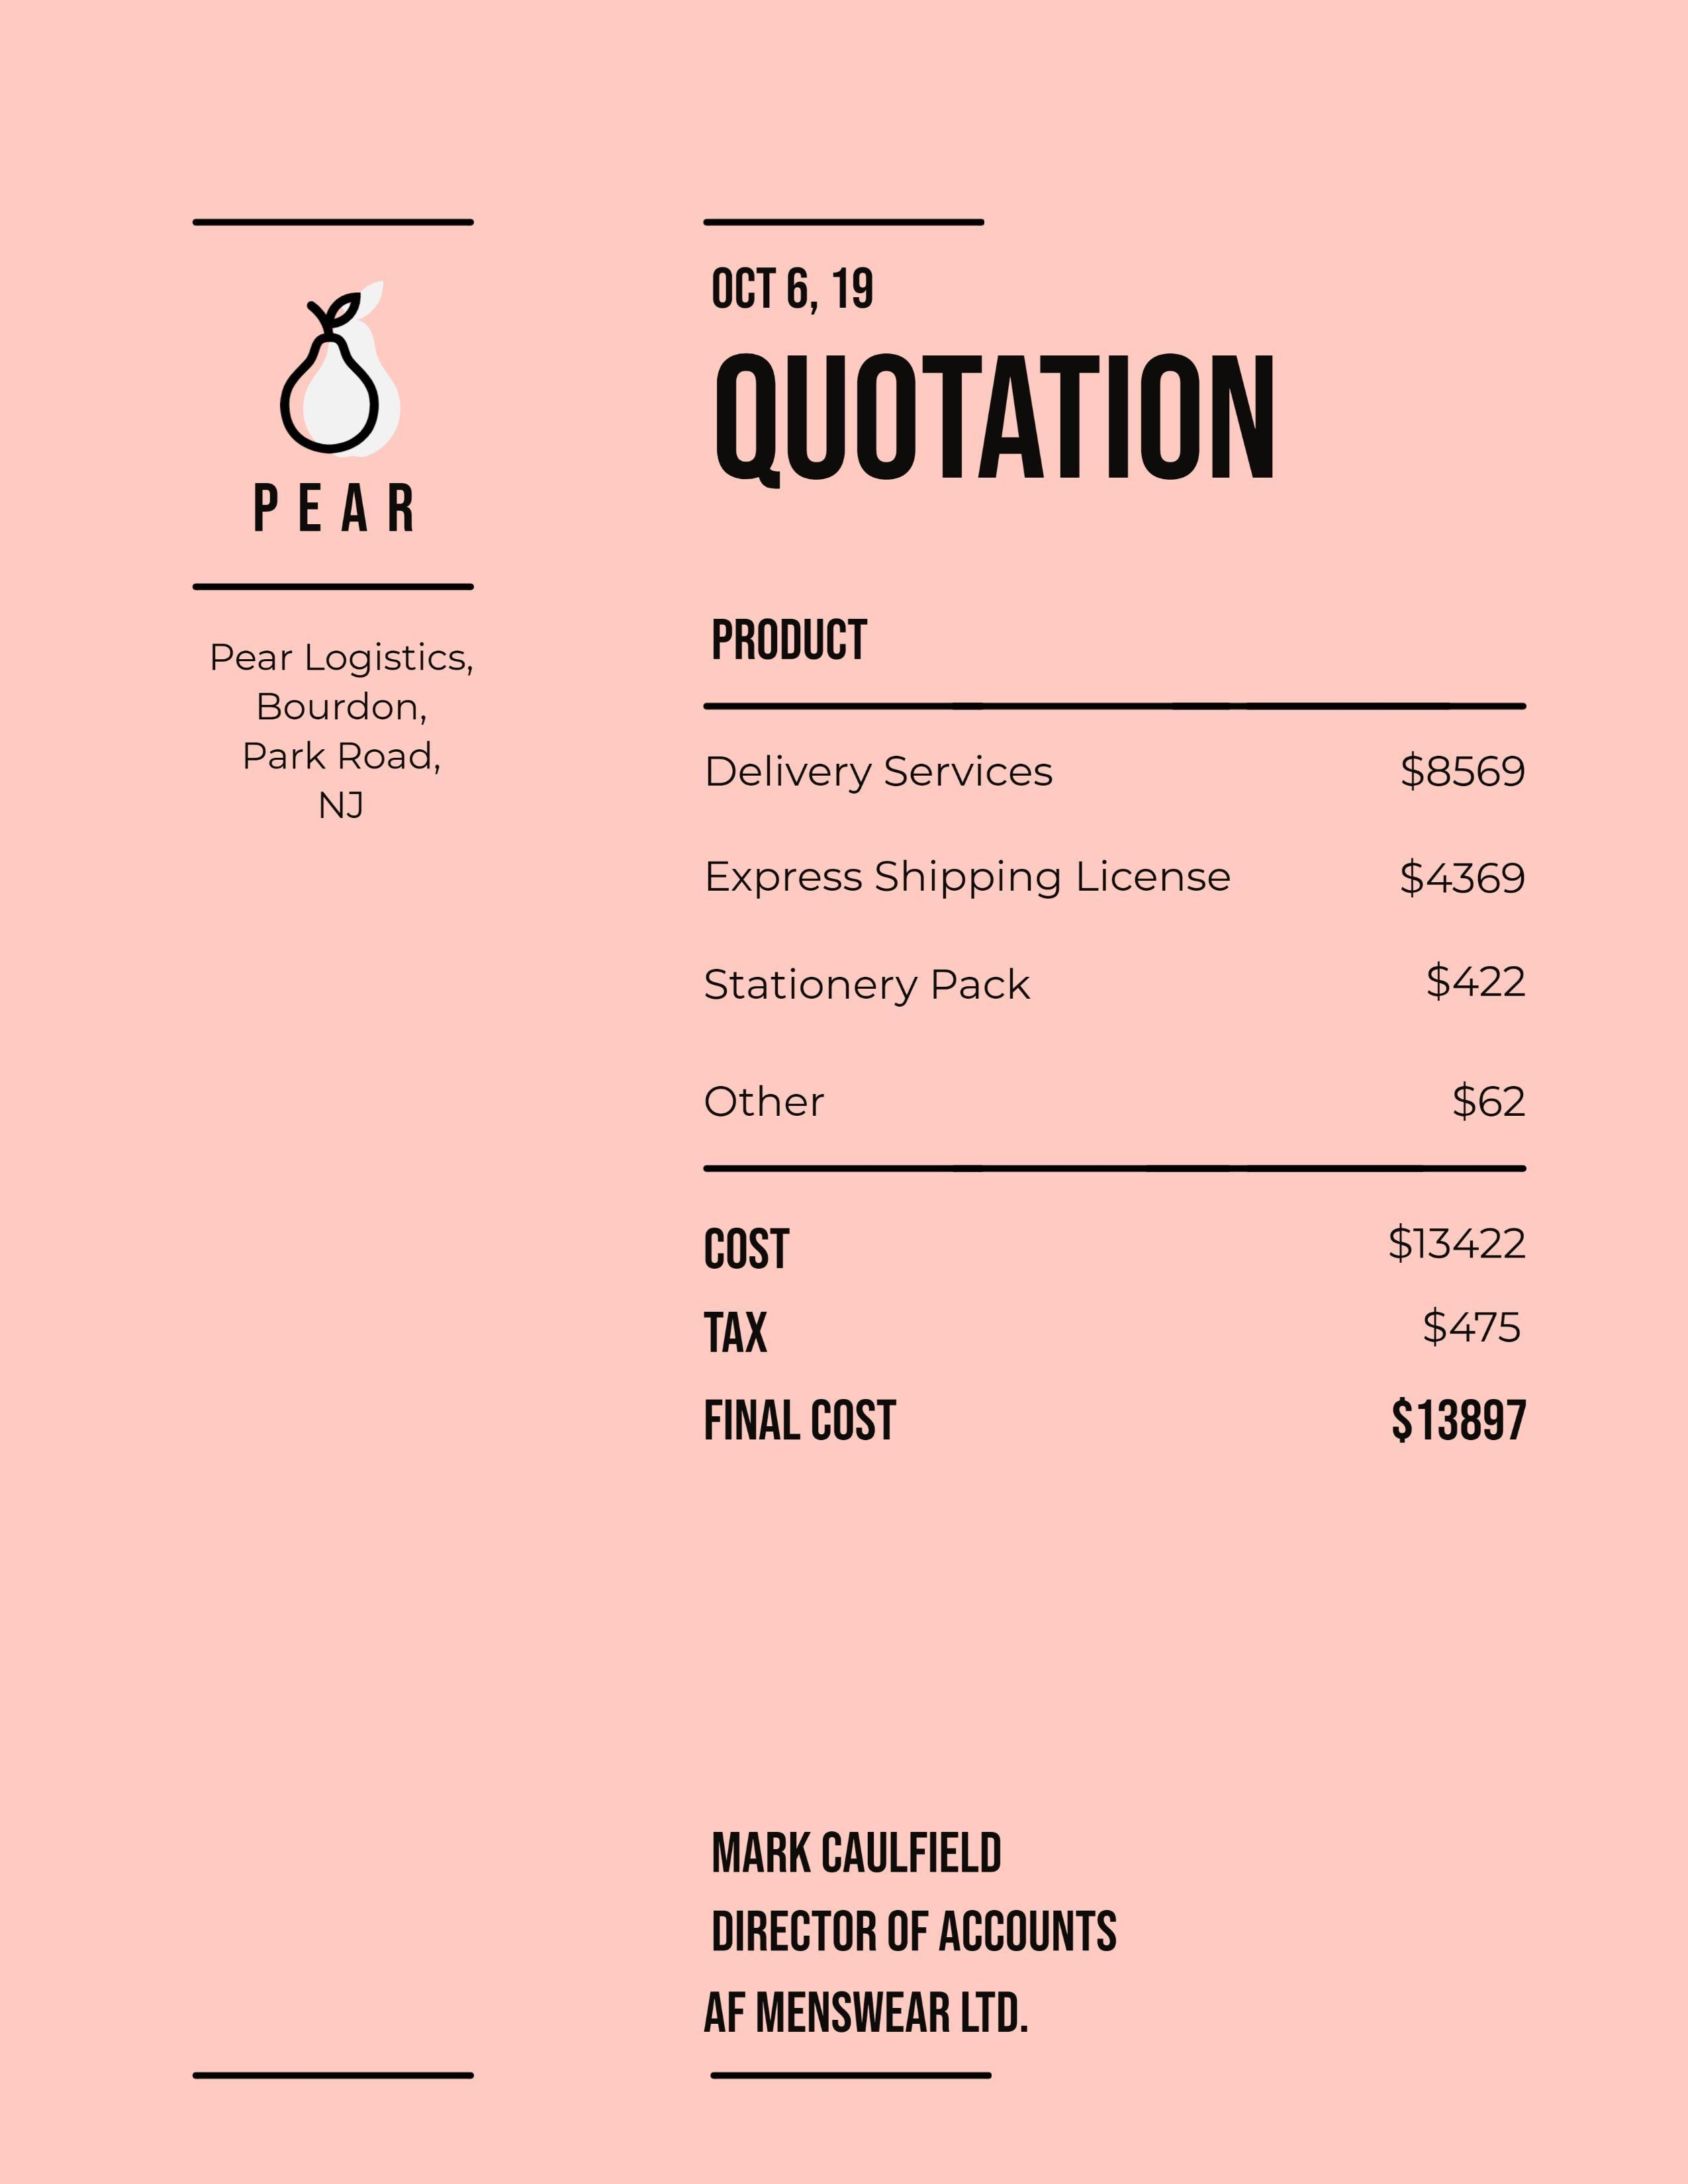ROI: (682, 685, 1532, 1167), (686, 1215, 1550, 1483), (196, 613, 486, 851), (699, 259, 915, 330)
